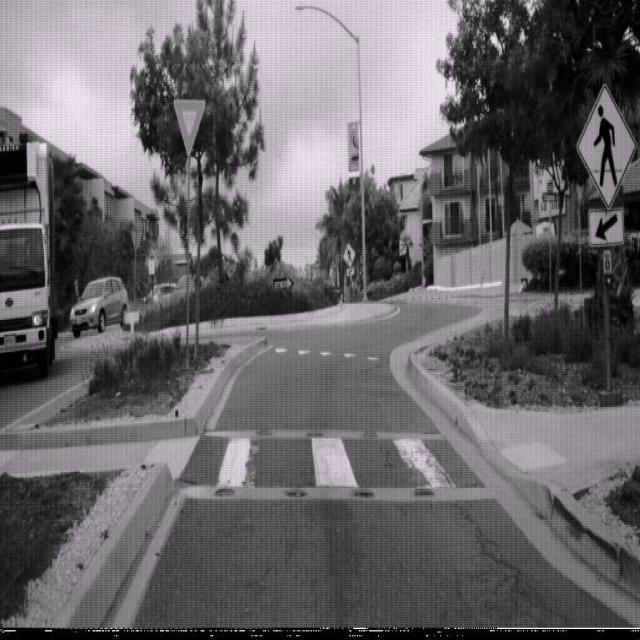pedestrianCrossing: (576, 82, 636, 210), (342, 242, 356, 268)
yield: (172, 98, 206, 157)
